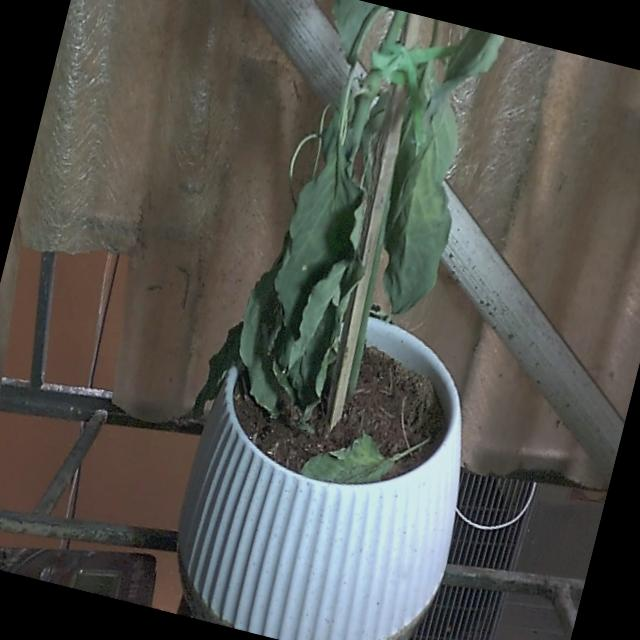Leaf: (252, 147, 375, 380), (366, 138, 471, 320)
